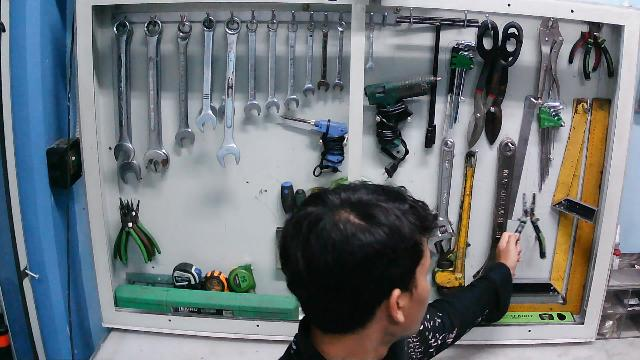tang_kombinasi: (509, 189, 549, 264)
